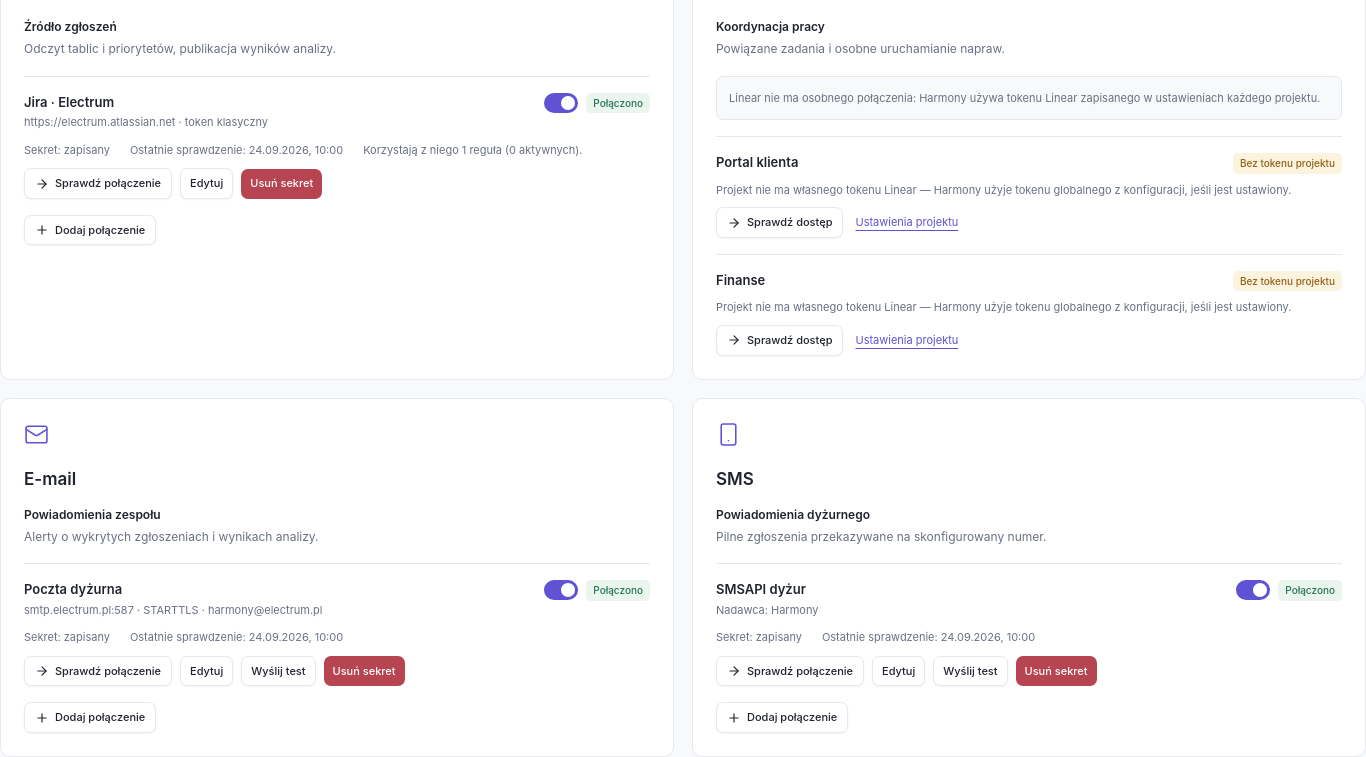
Test case: IntegrationsPage — connection test and test-send (T25.4) › asks for an e-mail recipient for SMTP and explains disabled effects
(page scrolled)
Click the button "Wyślij test" below "Poczta dyżurna".
click(278, 671)  # box left=241, top=656, right=316, bottom=686
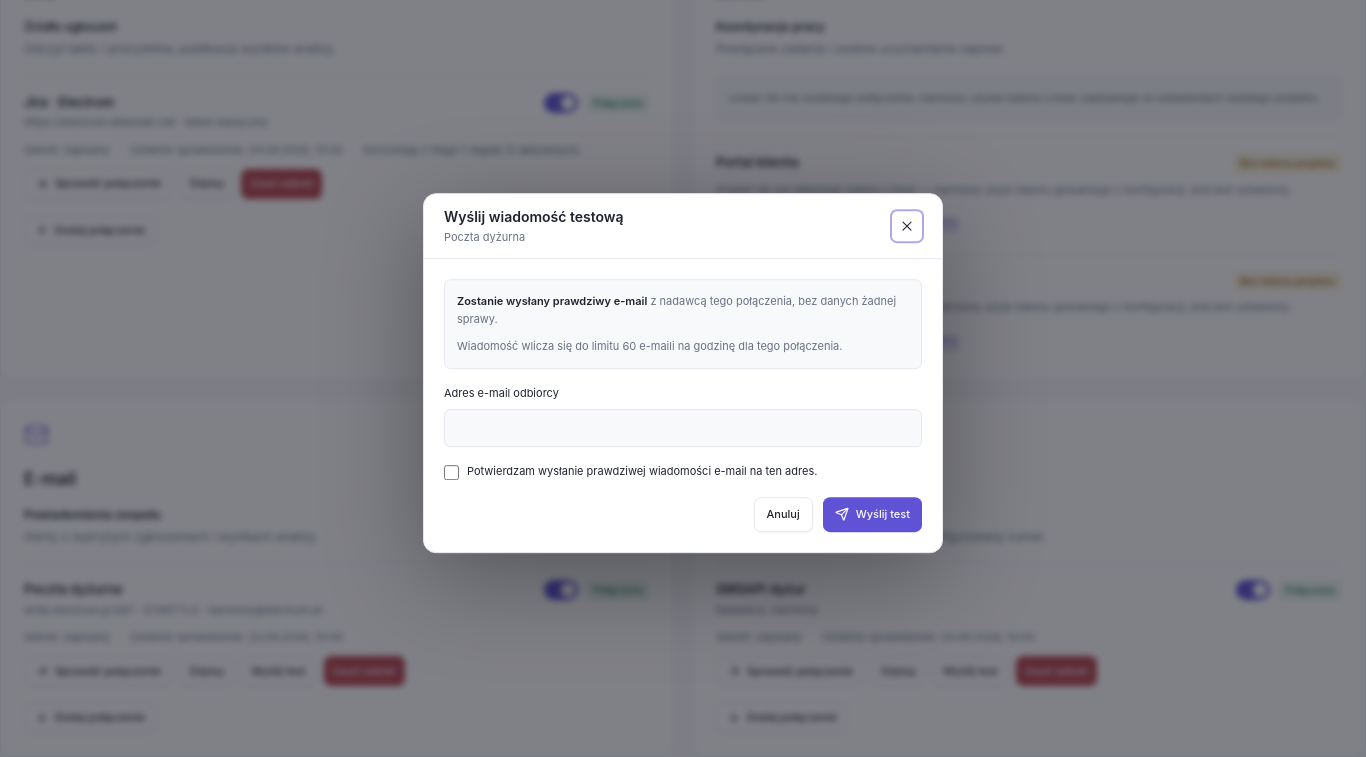
Expected: the dialog "Wyślij wiadomość testową" shows "60 e-maili na godzinę", left=457, top=339, right=842, bottom=353
Type "dyzur@electrum.pl" into the field labelled "Adres e-mail odbiorcy".
click(683, 428); type("dyzur@electrum.pl")  # box left=444, top=409, right=922, bottom=447
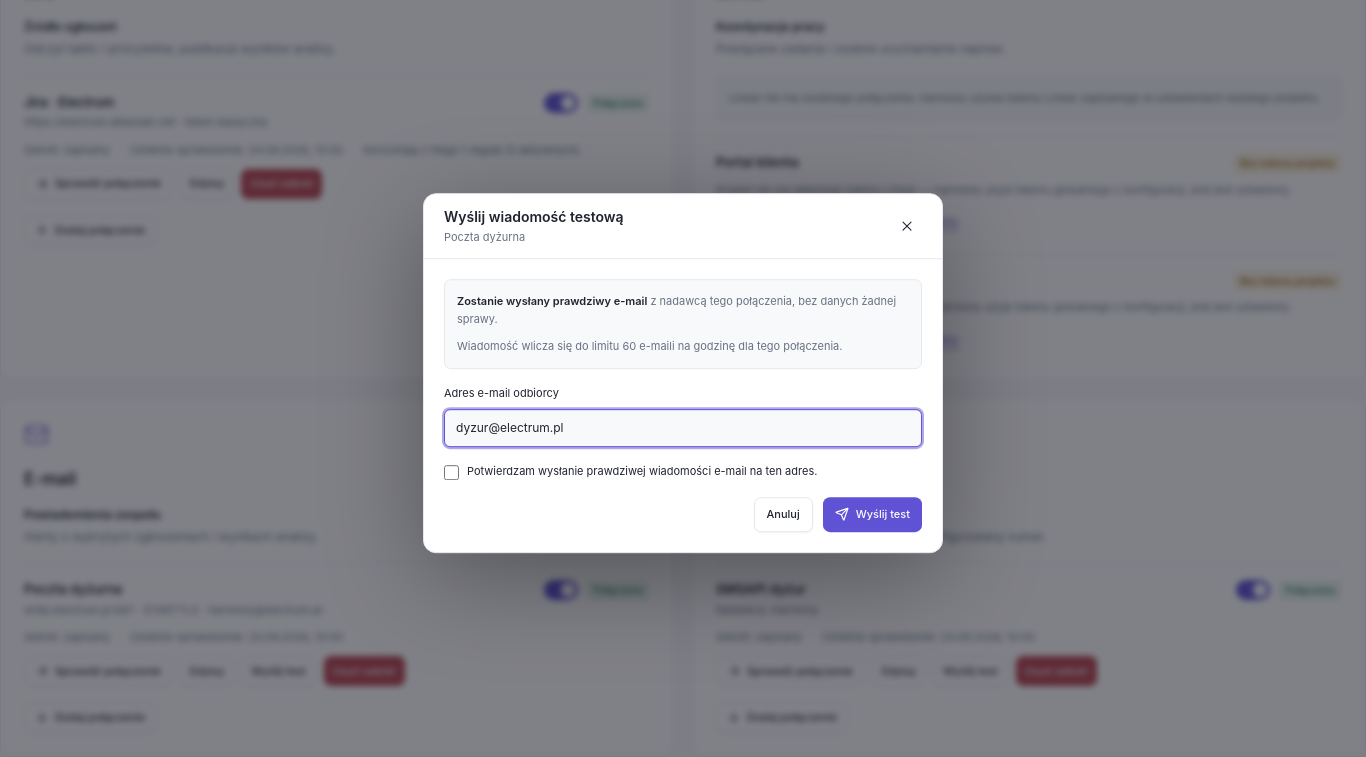
Click the checkbox labelled "Potwierdzam wysłanie".
click(452, 473)  # box left=444, top=465, right=459, bottom=480
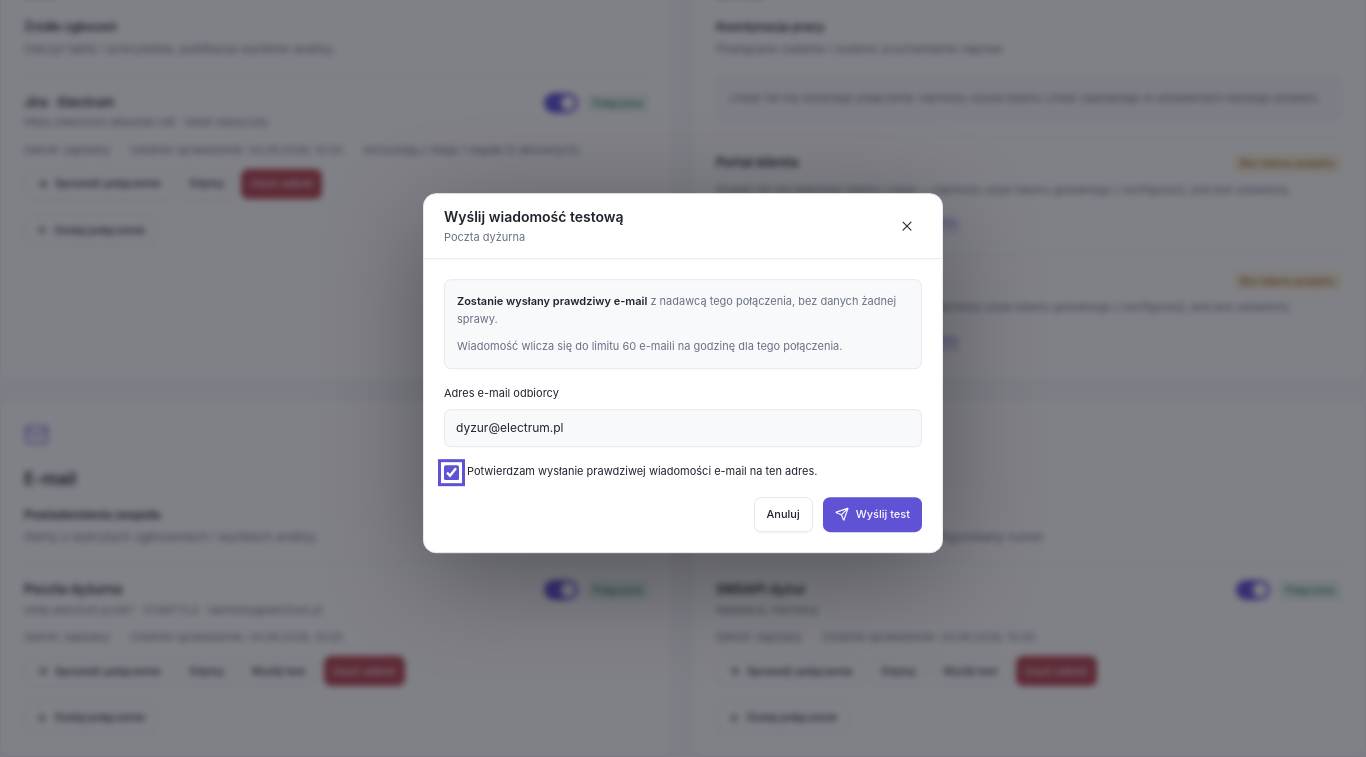
Click the button "Wyślij test".
click(872, 514)  # box left=823, top=497, right=922, bottom=532
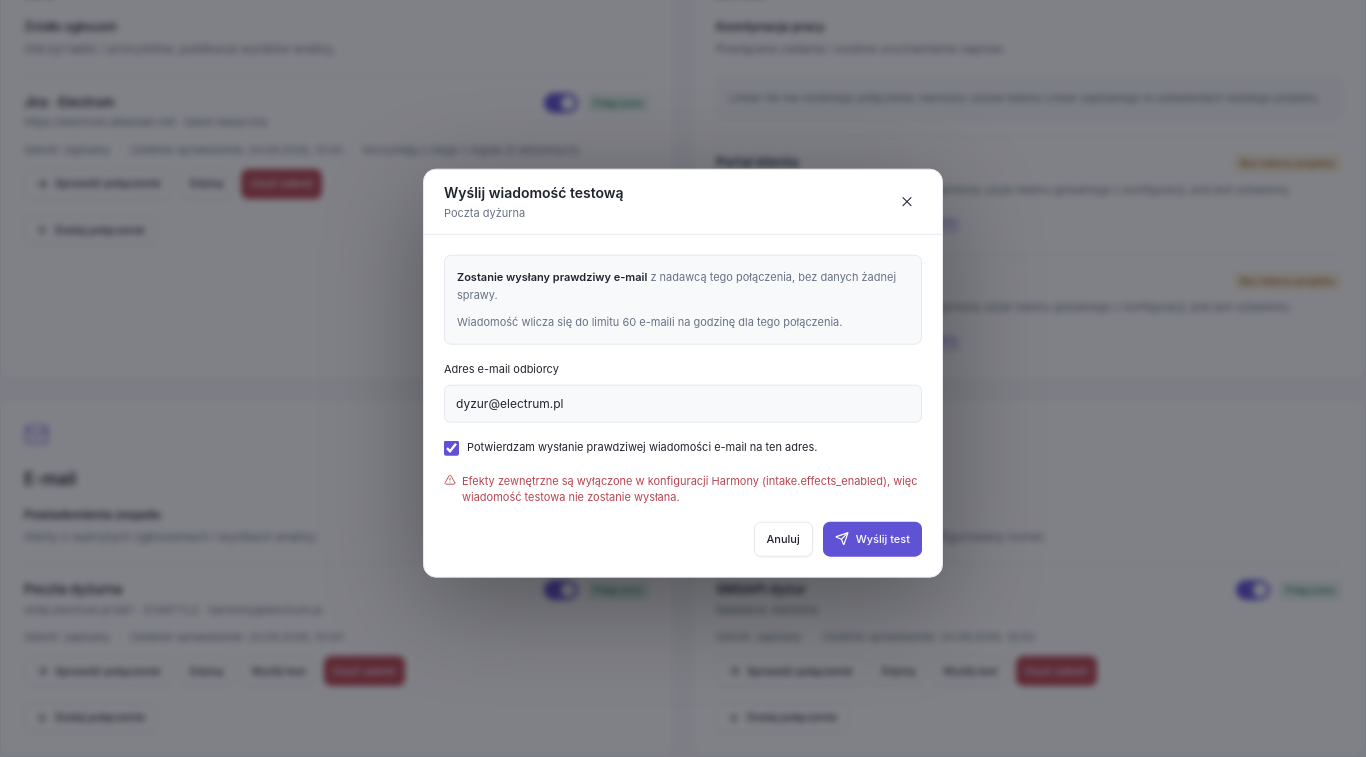
Expected: the message shows "intake.effects_enabled", left=462, top=473, right=918, bottom=504
